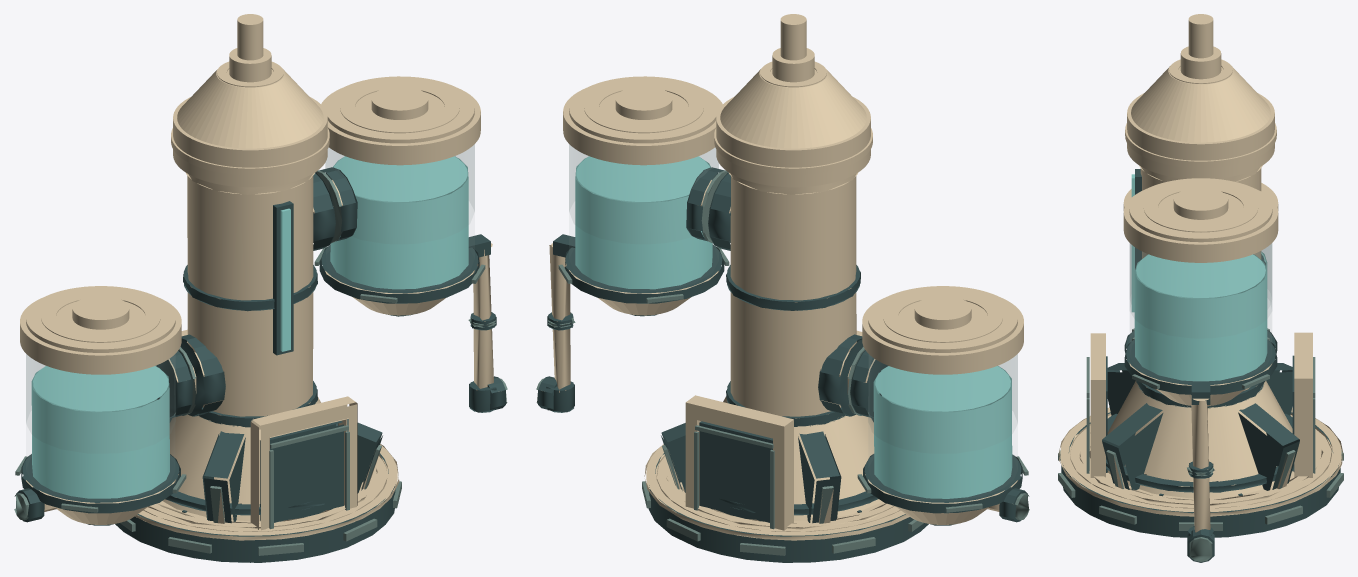
The model's file is Vat_T2_capneon.glb.
3 views of the same model, side by side, from view 1: azimuth 30°, elevation 25°; view 2: azimuth 150°, elevation 25°; view 3: azimuth 270°, elevation 25° (orthographic). The views are drawn at different scales.
Parts seen in each view (by area): view 1: Vat_T2, CapNeon; view 2: Vat_T2, CapNeon; view 3: Vat_T2, CapNeon.
Boxes of the visible parts, x1,y1,x2,y2 form: Vat_T2: [14, 14, 507, 562]; CapNeon: [41, 61, 459, 342]; Vat_T2: [536, 14, 1029, 562]; CapNeon: [584, 61, 1002, 342]; Vat_T2: [1058, 14, 1343, 562]; CapNeon: [1143, 59, 1258, 232].
Size of the model in its own units: 6.83 by 6.61 by 3.67.
